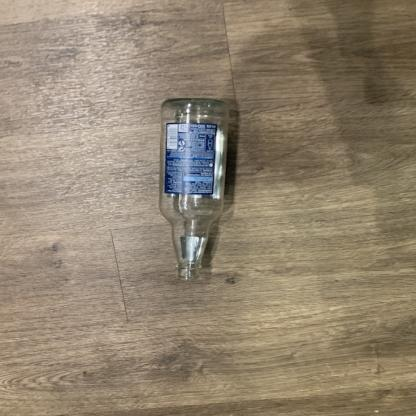trash: (156, 97, 236, 284)
